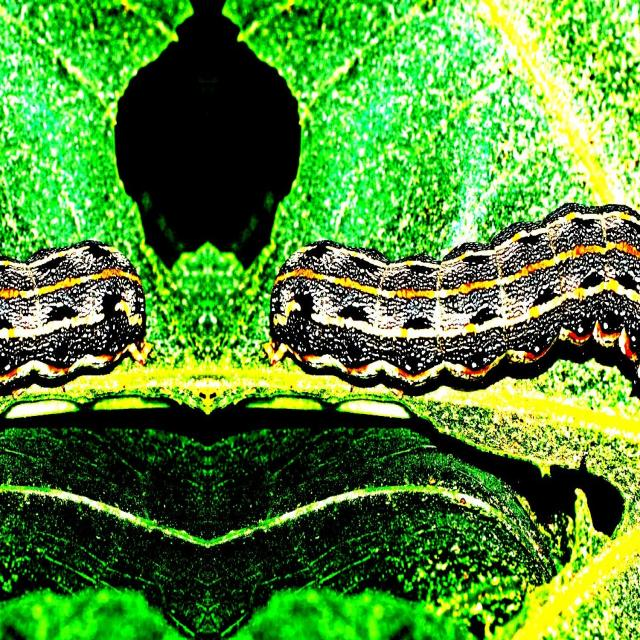Armyworm: (274, 194, 640, 406), (1, 209, 141, 399)
Armyworm_damage: (90, 1, 347, 310)
